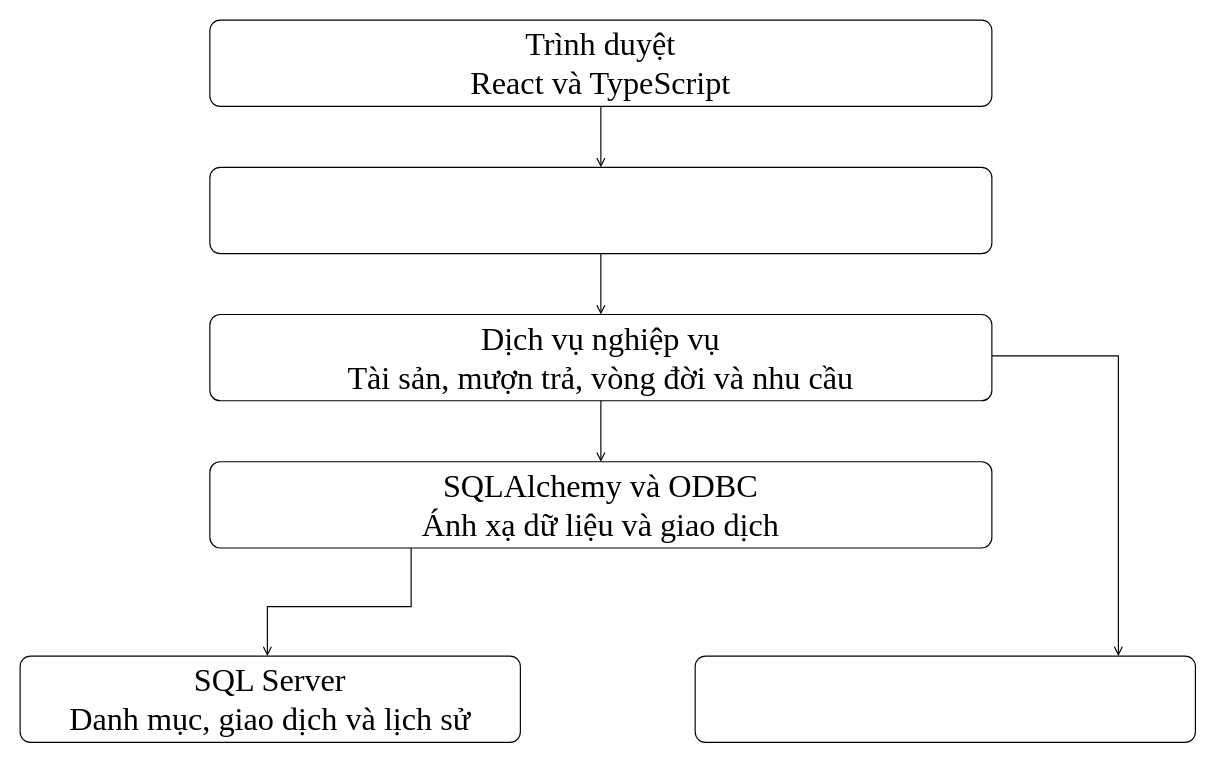
Image size: 1216x762. Some labels were removed from this diagram. Each missing label, with the centre of its shape:
FastAPI Định tuyến, phiên và xác thực dữ liệu: pixel 600 210
Kho tệp do ứng dụng quản lý Ảnh và chứng từ: pixel 944 698
